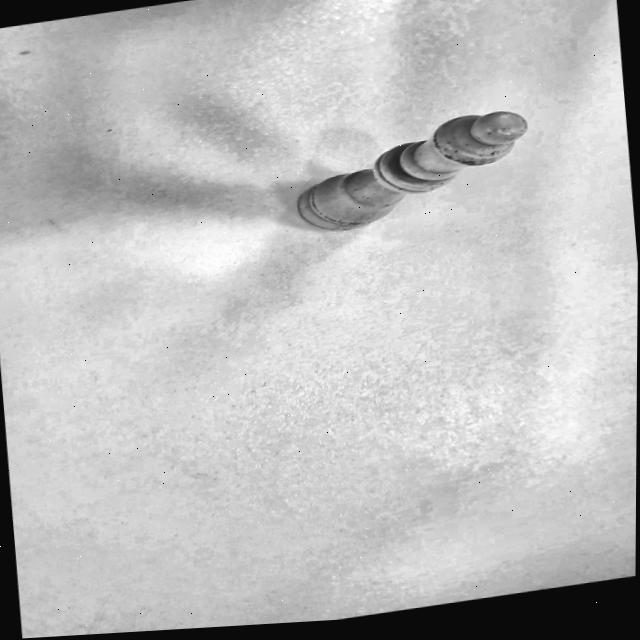white-queen: (256, 79, 563, 252)
